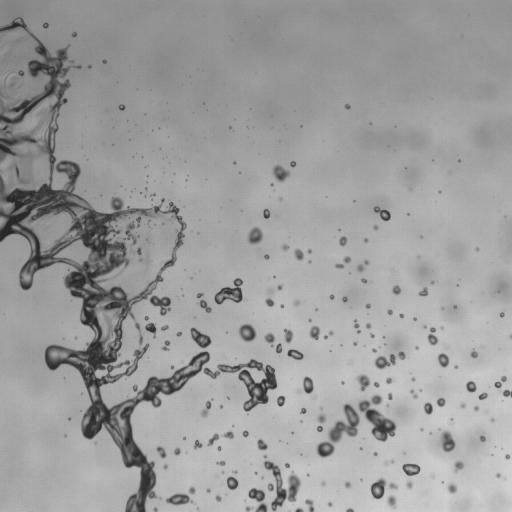droplet: (214, 278, 247, 305), (370, 477, 398, 499), (165, 486, 195, 505), (244, 487, 267, 511), (402, 463, 421, 489), (238, 323, 256, 342), (272, 164, 290, 182), (295, 376, 313, 394), (354, 374, 371, 391), (247, 226, 263, 244), (222, 476, 239, 490), (427, 327, 438, 345), (286, 349, 304, 360), (145, 321, 156, 338), (437, 352, 449, 367), (309, 325, 320, 341), (356, 259, 369, 272), (386, 495, 397, 509), (283, 328, 293, 343), (446, 482, 457, 494), (466, 380, 476, 393), (453, 460, 463, 473), (275, 395, 286, 406), (28, 21, 39, 32), (53, 132, 64, 143), (53, 149, 64, 160), (140, 198, 151, 209), (256, 218, 267, 229), (338, 245, 349, 256), (269, 246, 280, 257), (20, 248, 31, 259), (51, 261, 62, 272), (153, 286, 164, 297), (130, 302, 141, 313), (162, 312, 173, 323), (152, 315, 163, 326), (254, 328, 265, 339), (84, 329, 95, 340), (164, 329, 175, 340), (273, 331, 284, 342), (181, 332, 192, 343), (149, 338, 160, 349), (431, 343, 442, 354), (206, 359, 217, 370), (382, 365, 393, 376), (367, 369, 378, 380), (364, 385, 375, 396), (376, 385, 387, 396), (489, 387, 500, 398), (266, 388, 277, 399), (139, 399, 150, 410), (305, 411, 316, 422), (323, 419, 334, 430), (361, 419, 372, 430), (97, 427, 108, 438), (318, 431, 329, 442), (367, 435, 378, 446), (139, 443, 150, 454), (448, 449, 459, 460), (130, 465, 141, 476), (449, 473, 460, 484), (129, 481, 140, 492), (237, 483, 248, 494), (295, 488, 306, 499), (264, 490, 275, 501), (293, 496, 304, 507), (143, 498, 154, 509), (294, 248, 304, 260), (257, 438, 267, 450), (156, 446, 166, 458), (305, 499, 314, 511), (418, 286, 428, 296), (161, 340, 170, 351), (392, 285, 401, 295), (409, 389, 418, 399), (193, 439, 202, 449), (48, 48, 57, 57), (240, 229, 249, 238), (366, 229, 375, 238), (4, 233, 13, 242), (346, 261, 355, 270), (74, 296, 83, 305), (205, 296, 214, 305), (182, 330, 191, 339), (369, 338, 378, 347), (281, 342, 290, 351), (71, 368, 80, 377), (163, 369, 172, 378), (273, 371, 282, 380), (137, 380, 146, 389), (357, 411, 366, 420), (128, 413, 137, 422), (216, 426, 225, 435), (232, 428, 241, 437), (131, 432, 140, 441), (435, 437, 444, 446), (164, 446, 173, 455), (274, 458, 283, 467), (280, 470, 289, 479), (296, 471, 305, 480), (256, 481, 265, 490), (383, 487, 392, 496), (249, 498, 258, 507), (339, 236, 347, 246), (470, 348, 478, 358), (386, 376, 396, 384), (505, 308, 511, 319), (505, 379, 511, 390), (173, 505, 184, 511), (382, 505, 393, 511), (391, 505, 402, 511), (281, 243, 289, 251), (160, 324, 169, 331), (478, 392, 487, 399), (479, 432, 486, 441), (263, 208, 269, 218), (292, 299, 300, 306), (344, 481, 352, 488), (0, 73, 5, 84), (0, 216, 5, 227), (216, 460, 225, 466), (299, 407, 306, 414), (242, 430, 249, 437), (15, 26, 22, 33), (57, 42, 64, 49), (65, 49, 72, 56), (37, 55, 44, 62), (21, 64, 28, 71), (64, 72, 71, 79), (59, 103, 66, 110), (4, 153, 11, 160), (65, 154, 72, 161), (69, 155, 76, 162), (77, 161, 84, 168), (283, 163, 290, 170), (75, 175, 82, 182), (269, 175, 276, 182), (283, 176, 290, 183), (2, 177, 9, 184), (116, 191, 123, 198), (152, 198, 159, 205), (160, 203, 167, 210), (106, 206, 113, 213), (260, 228, 267, 235), (253, 241, 260, 248), (175, 247, 182, 254), (287, 248, 294, 255), (302, 252, 309, 259), (165, 265, 172, 272), (35, 268, 42, 275), (360, 270, 367, 277), (63, 287, 70, 294), (334, 294, 341, 301), (143, 297, 150, 304), (273, 299, 280, 306), (272, 302, 279, 309), (391, 311, 398, 318), (311, 319, 318, 326), (139, 320, 146, 327), (154, 322, 161, 329), (358, 323, 365, 330), (252, 324, 259, 331), (303, 328, 310, 335), (352, 333, 359, 340), (247, 339, 254, 346), (80, 343, 87, 350), (195, 345, 202, 352), (370, 352, 377, 359), (447, 359, 454, 366), (59, 362, 66, 369), (41, 363, 48, 370), (357, 368, 364, 375), (197, 370, 204, 377), (187, 376, 194, 383), (378, 378, 385, 385), (353, 381, 360, 388), (500, 382, 507, 389), (98, 384, 105, 391), (474, 388, 481, 395), (172, 390, 179, 397), (129, 391, 136, 398), (156, 391, 163, 398), (380, 393, 387, 400), (84, 399, 91, 406), (105, 401, 112, 408), (256, 402, 263, 409), (368, 402, 375, 409), (466, 402, 473, 409), (352, 404, 359, 411), (321, 408, 328, 415), (392, 417, 399, 424), (367, 422, 374, 429), (76, 430, 83, 437), (340, 431, 347, 438), (450, 433, 457, 440), (81, 436, 88, 443), (200, 437, 207, 444), (212, 439, 219, 446), (332, 441, 339, 448), (113, 446, 120, 453), (310, 446, 317, 453), (311, 449, 318, 456), (322, 455, 329, 462), (151, 465, 158, 472), (281, 482, 288, 489), (441, 483, 448, 490), (455, 484, 462, 491), (151, 485, 158, 492), (181, 487, 188, 494), (208, 491, 215, 498), (445, 491, 452, 498), (451, 491, 458, 498), (394, 497, 401, 504), (282, 498, 289, 505), (119, 503, 126, 510), (302, 504, 309, 511), (448, 417, 454, 425), (174, 447, 180, 455), (275, 506, 284, 511), (118, 104, 125, 110), (176, 331, 183, 337), (372, 381, 379, 387), (459, 402, 466, 408), (215, 494, 221, 501), (387, 392, 392, 400), (42, 22, 48, 28), (290, 161, 296, 167), (365, 302, 371, 308), (387, 309, 393, 315), (365, 323, 371, 329), (473, 405, 479, 411), (284, 462, 290, 468), (294, 507, 303, 511), (499, 311, 504, 318), (443, 343, 448, 350), (344, 104, 350, 109), (373, 224, 378, 230), (277, 284, 282, 290), (342, 296, 347, 302), (369, 332, 374, 338), (371, 348, 377, 353), (217, 445, 222, 451), (504, 454, 510, 459), (152, 506, 158, 511), (144, 314, 148, 321), (430, 472, 434, 479), (265, 507, 272, 511), (326, 507, 333, 511), (72, 32, 77, 37), (264, 254, 269, 259), (329, 294, 334, 299), (399, 313, 404, 318), (414, 345, 419, 350), (321, 481, 326, 486), (327, 501, 332, 506), (23, 19, 28, 24), (6, 20, 11, 25), (68, 28, 73, 33), (28, 36, 33, 41), (33, 41, 38, 46), (73, 60, 78, 65), (81, 63, 86, 68), (13, 71, 18, 76), (5, 79, 10, 84), (61, 93, 66, 98), (52, 151, 57, 156), (53, 160, 58, 165), (146, 176, 151, 181), (139, 186, 144, 191), (72, 189, 77, 194), (114, 192, 119, 197), (129, 203, 134, 208), (121, 205, 126, 210), (374, 211, 379, 216), (389, 211, 394, 216), (181, 216, 186, 221), (380, 219, 385, 224), (385, 219, 390, 224), (368, 223, 373, 228), (368, 226, 373, 231), (181, 229, 186, 234), (337, 232, 342, 237), (345, 234, 350, 239), (180, 236, 185, 241), (334, 238, 339, 243), (345, 239, 350, 244), (285, 240, 290, 245), (365, 241, 370, 246), (277, 242, 282, 247), (178, 244, 183, 249), (277, 247, 282, 252), (302, 250, 307, 255), (349, 254, 354, 259), (365, 255, 370, 260), (339, 259, 344, 264), (358, 259, 363, 264), (173, 260, 178, 265), (343, 262, 348, 267), (48, 264, 53, 269), (363, 264, 368, 269), (70, 266, 75, 271), (336, 267, 341, 272), (160, 272, 165, 277), (156, 280, 161, 285), (391, 281, 396, 286), (229, 283, 234, 288), (398, 283, 403, 288), (16, 284, 21, 289), (239, 284, 244, 289), (272, 284, 277, 289), (28, 286, 33, 291), (417, 286, 422, 291), (387, 287, 392, 292), (25, 288, 30, 293), (195, 288, 200, 293), (426, 288, 431, 293), (399, 289, 404, 294), (241, 291, 246, 296), (390, 292, 395, 297), (157, 293, 162, 298), (167, 293, 172, 298), (263, 294, 268, 299), (420, 295, 425, 300), (271, 296, 276, 301), (223, 298, 228, 303), (168, 302, 173, 307), (262, 302, 267, 307), (360, 303, 365, 308), (155, 305, 160, 310), (366, 307, 371, 312), (165, 310, 170, 315), (207, 311, 212, 316), (146, 318, 151, 323), (242, 319, 247, 324), (309, 321, 314, 326), (370, 322, 375, 327), (426, 323, 431, 328), (84, 324, 89, 329), (286, 325, 291, 330), (328, 325, 333, 330), (434, 325, 439, 330), (368, 327, 373, 332), (200, 329, 205, 334), (425, 329, 430, 334), (146, 330, 151, 335), (432, 331, 437, 336), (317, 333, 322, 338), (310, 337, 315, 342), (383, 337, 388, 342), (423, 337, 428, 342), (379, 338, 384, 343), (436, 339, 441, 344), (47, 340, 52, 345), (191, 340, 196, 345), (272, 340, 277, 345), (58, 341, 63, 346), (265, 341, 270, 346), (140, 342, 145, 347), (297, 347, 302, 352), (467, 347, 472, 352), (403, 350, 408, 355), (444, 350, 449, 355), (142, 352, 147, 357), (208, 352, 213, 357), (476, 353, 481, 358), (287, 355, 292, 360), (394, 355, 399, 360), (40, 356, 45, 361), (186, 356, 191, 361), (256, 357, 261, 362), (137, 358, 142, 363), (244, 358, 249, 363), (297, 358, 302, 363), (183, 360, 188, 365), (233, 360, 238, 365), (270, 362, 275, 367), (435, 362, 440, 367), (201, 363, 206, 368), (173, 365, 178, 370), (383, 365, 388, 370), (441, 366, 446, 371), (234, 370, 239, 375), (219, 371, 224, 376), (499, 371, 504, 376), (156, 374, 161, 379), (205, 374, 210, 379), (215, 374, 220, 379), (309, 374, 314, 379), (464, 377, 469, 382), (113, 380, 118, 385), (238, 380, 243, 385), (368, 381, 373, 386), (312, 383, 317, 388), (461, 384, 466, 389), (181, 385, 186, 390), (299, 386, 304, 391), (492, 386, 497, 391), (311, 388, 316, 393), (413, 388, 418, 393), (300, 389, 305, 394), (465, 390, 470, 395), (281, 391, 286, 396), (308, 391, 313, 396), (305, 392, 310, 397), (407, 392, 412, 397), (391, 393, 396, 398), (498, 393, 503, 398), (245, 394, 250, 399), (442, 394, 447, 399), (120, 396, 125, 401), (422, 398, 427, 403), (480, 398, 485, 403), (283, 399, 288, 404), (210, 401, 215, 406), (238, 402, 243, 407), (443, 402, 448, 407), (201, 403, 206, 408), (455, 403, 460, 408), (158, 404, 163, 409), (251, 406, 256, 411), (208, 407, 213, 412), (461, 407, 466, 412), (420, 409, 425, 414), (472, 410, 477, 415), (78, 412, 83, 417), (488, 412, 493, 417), (426, 413, 431, 418), (200, 416, 205, 421), (314, 421, 319, 426), (226, 426, 231, 431), (423, 427, 428, 432), (222, 428, 227, 433), (393, 428, 398, 433), (207, 433, 212, 438), (386, 434, 391, 439), (475, 436, 480, 441), (108, 437, 113, 442), (262, 438, 267, 443), (377, 439, 382, 444), (481, 440, 486, 445), (159, 442, 164, 447), (253, 442, 258, 447), (195, 446, 200, 451), (179, 448, 184, 453), (491, 448, 496, 453), (260, 449, 265, 454), (449, 449, 454, 454), (385, 455, 390, 460), (266, 456, 271, 461), (146, 457, 151, 462), (260, 457, 265, 462), (409, 459, 414, 464), (272, 460, 277, 465), (217, 464, 222, 469), (450, 464, 455, 469), (462, 464, 467, 469), (267, 468, 272, 473), (457, 468, 462, 473), (494, 468, 499, 473), (400, 470, 405, 475), (232, 473, 237, 478), (410, 474, 415, 479), (344, 476, 349, 481), (372, 477, 377, 482), (496, 477, 501, 482), (349, 479, 354, 484), (237, 480, 242, 485), (271, 480, 276, 485), (222, 482, 227, 487), (340, 483, 345, 488), (411, 483, 416, 488), (246, 485, 251, 490), (255, 485, 260, 490), (224, 486, 229, 491), (234, 486, 239, 491), (194, 488, 199, 493), (406, 488, 411, 493), (366, 489, 371, 494), (166, 492, 171, 497), (367, 492, 372, 497), (188, 493, 193, 498), (219, 493, 224, 498), (306, 494, 311, 499), (123, 495, 128, 500), (211, 497, 216, 502), (372, 497, 377, 502), (217, 500, 222, 505), (331, 500, 336, 505), (167, 502, 172, 507), (178, 503, 183, 508), (312, 503, 317, 508), (345, 503, 350, 508), (307, 248, 311, 254), (232, 470, 238, 474), (0, 20, 3, 27), (0, 53, 3, 60), (0, 120, 3, 127), (102, 59, 107, 63), (475, 246, 479, 251), (280, 304, 284, 309), (422, 324, 426, 329), (353, 341, 357, 346), (454, 364, 458, 369), (410, 377, 415, 381), (219, 404, 223, 409), (490, 417, 494, 422), (163, 464, 167, 469), (206, 488, 210, 493), (87, 64, 91, 68), (364, 238, 368, 242), (430, 280, 434, 284), (413, 317, 417, 321), (341, 381, 345, 385), (385, 403, 389, 407), (67, 417, 71, 421), (373, 451, 377, 455), (311, 396, 316, 399), (508, 386, 511, 391), (241, 508, 246, 511), (249, 508, 254, 511), (312, 508, 317, 511), (228, 125, 231, 129), (457, 159, 461, 162), (270, 182, 273, 186), (189, 276, 193, 279), (496, 290, 500, 293), (453, 305, 457, 308), (441, 306, 444, 310), (314, 308, 318, 311), (308, 318, 311, 322), (440, 326, 444, 329), (418, 388, 422, 391), (226, 396, 230, 399), (299, 420, 303, 423), (420, 427, 423, 431), (64, 433, 67, 437), (182, 436, 186, 439), (94, 441, 97, 445), (221, 470, 224, 474), (254, 471, 257, 475), (360, 478, 363, 482), (244, 499, 247, 503), (196, 507, 199, 511), (145, 187, 147, 192), (369, 122, 372, 125), (233, 161, 236, 164), (238, 171, 241, 174), (438, 190, 441, 193), (279, 197, 282, 200), (338, 228, 341, 231), (420, 235, 423, 238), (308, 260, 311, 263), (181, 294, 184, 297), (225, 331, 228, 334), (74, 336, 77, 339), (181, 360, 184, 363), (291, 431, 294, 434), (359, 447, 362, 450), (306, 473, 309, 476), (46, 20, 49, 23), (40, 21, 43, 24), (47, 24, 50, 27), (43, 27, 46, 30), (72, 28, 75, 31), (75, 34, 78, 37), (101, 56, 104, 59), (99, 60, 102, 63), (3, 61, 6, 64), (88, 61, 91, 64), (102, 63, 105, 66), (75, 67, 78, 70), (88, 67, 91, 70), (15, 69, 18, 72), (0, 80, 3, 83), (68, 80, 71, 83), (66, 98, 69, 101), (344, 100, 347, 103), (348, 102, 351, 105), (343, 107, 346, 110), (123, 108, 126, 111), (347, 108, 350, 111), (119, 109, 122, 112), (56, 120, 59, 123), (366, 123, 369, 126), (57, 124, 60, 127), (296, 124, 299, 127), (302, 124, 305, 127), (225, 125, 228, 128), (231, 125, 234, 128), (299, 127, 302, 130), (228, 128, 231, 131), (55, 130, 58, 133), (455, 156, 458, 159), (234, 158, 237, 161), (289, 158, 292, 161), (293, 158, 296, 161), (428, 158, 431, 161), (460, 158, 463, 161), (229, 160, 232, 163), (456, 161, 459, 164), (295, 162, 298, 165), (231, 163, 234, 166), (293, 165, 296, 168), (237, 173, 240, 176), (148, 174, 151, 177), (184, 175, 187, 178), (144, 176, 147, 179), (181, 178, 184, 181), (186, 180, 189, 183), (144, 183, 147, 186), (271, 185, 274, 188), (130, 187, 133, 190), (438, 187, 441, 190), (150, 190, 153, 193), (128, 191, 131, 194), (136, 191, 139, 194), (141, 192, 144, 195), (436, 192, 439, 195), (146, 193, 149, 196), (151, 195, 154, 198), (352, 196, 355, 199), (349, 199, 352, 202), (175, 204, 178, 207), (264, 205, 267, 208), (267, 207, 270, 210), (386, 208, 389, 211), (406, 209, 409, 212), (260, 213, 263, 216), (269, 213, 272, 216), (406, 215, 409, 218), (265, 217, 268, 220), (336, 225, 339, 228), (367, 237, 370, 240), (361, 240, 364, 243), (477, 244, 480, 247), (478, 248, 481, 251), (311, 249, 314, 252), (473, 249, 476, 252), (263, 251, 266, 254), (267, 252, 270, 255), (261, 256, 264, 259), (268, 256, 271, 259), (310, 261, 313, 264), (307, 263, 310, 266), (273, 272, 276, 275), (236, 275, 239, 278), (269, 275, 272, 278), (232, 276, 235, 279), (364, 276, 367, 279), (240, 277, 243, 280), (366, 280, 369, 283), (456, 280, 459, 283), (433, 281, 436, 284), (362, 282, 365, 285), (281, 285, 284, 288), (455, 286, 458, 289), (217, 288, 220, 291), (180, 290, 183, 293), (327, 292, 330, 295), (332, 292, 335, 295), (343, 293, 346, 296), (183, 294, 186, 297), (193, 294, 196, 297), (179, 295, 182, 298), (327, 297, 330, 300), (332, 297, 335, 300), (299, 300, 302, 303), (340, 300, 343, 303), (233, 301, 236, 304), (237, 301, 240, 304), (344, 301, 347, 304), (453, 301, 456, 304), (283, 304, 286, 307), (314, 304, 317, 307), (450, 304, 453, 307), (456, 304, 459, 307), (388, 306, 391, 309), (311, 308, 314, 311), (317, 308, 320, 311), (453, 308, 456, 311), (498, 309, 501, 312), (399, 310, 402, 313), (503, 311, 506, 314), (144, 312, 147, 315), (386, 313, 389, 316), (496, 313, 499, 316), (161, 314, 164, 317), (396, 314, 399, 317), (403, 314, 406, 317), (414, 314, 417, 317), (502, 315, 505, 318), (351, 316, 354, 319), (305, 319, 308, 322), (411, 319, 414, 322), (351, 321, 354, 324), (167, 323, 170, 326), (432, 324, 435, 327), (164, 328, 167, 331), (177, 328, 180, 331), (332, 329, 335, 332), (222, 331, 225, 334), (371, 331, 374, 334), (358, 332, 361, 335), (382, 332, 385, 335), (367, 333, 370, 336), (178, 335, 181, 338), (327, 335, 330, 338), (373, 335, 376, 338), (506, 335, 509, 338), (209, 337, 212, 340), (370, 337, 373, 340), (353, 338, 356, 341), (339, 340, 342, 343), (356, 342, 359, 345), (350, 343, 353, 346), (416, 343, 419, 346), (166, 345, 169, 348), (273, 345, 276, 348), (341, 345, 344, 348), (329, 346, 332, 349), (374, 346, 377, 349), (400, 348, 403, 351), (474, 348, 477, 351), (145, 349, 148, 352), (161, 349, 164, 352), (415, 349, 418, 352), (328, 351, 331, 354), (276, 352, 279, 355), (302, 354, 305, 357), (470, 356, 473, 359), (220, 361, 223, 364), (456, 362, 459, 365), (457, 365, 460, 368), (454, 368, 457, 371), (131, 372, 134, 375), (409, 374, 412, 377), (414, 376, 417, 379), (341, 377, 344, 380), (338, 382, 341, 385), (388, 382, 391, 385), (491, 382, 494, 385), (342, 383, 345, 386), (419, 385, 422, 388), (422, 388, 425, 391), (226, 393, 229, 396), (229, 395, 232, 398), (224, 397, 227, 400), (387, 399, 390, 402), (222, 404, 225, 407), (304, 406, 307, 409), (241, 408, 244, 411), (298, 408, 301, 411), (303, 412, 306, 415), (448, 414, 451, 417), (64, 416, 67, 419), (452, 418, 455, 421), (65, 419, 68, 422), (297, 421, 300, 424), (490, 421, 493, 424), (419, 424, 422, 427), (246, 428, 249, 431), (289, 428, 292, 431), (314, 429, 317, 432), (417, 429, 420, 432), (293, 431, 296, 434), (288, 432, 291, 435), (60, 433, 63, 436), (483, 433, 486, 436), (66, 434, 69, 437), (428, 434, 431, 437), (241, 435, 244, 438), (246, 435, 249, 438), (179, 436, 182, 439), (185, 436, 188, 439), (278, 436, 281, 439), (182, 439, 185, 442), (191, 441, 194, 444), (279, 441, 282, 444), (360, 444, 363, 447), (220, 445, 223, 448), (356, 447, 359, 450), (220, 448, 223, 451), (488, 450, 491, 453), (376, 451, 379, 454), (302, 452, 305, 455), (296, 453, 299, 456), (502, 453, 505, 456), (175, 454, 178, 457), (299, 455, 302, 458), (373, 455, 376, 458), (490, 455, 493, 458), (217, 458, 220, 461), (224, 460, 227, 463), (287, 460, 290, 463), (212, 461, 215, 464), (289, 463, 292, 466), (167, 464, 170, 467), (399, 465, 402, 468), (232, 467, 235, 470), (418, 470, 421, 473), (308, 471, 311, 474), (251, 472, 254, 475), (359, 474, 362, 477), (356, 477, 359, 480), (440, 477, 443, 480), (322, 485, 325, 488), (209, 487, 212, 490), (203, 488, 206, 491), (245, 491, 248, 494), (326, 499, 329, 502), (329, 499, 332, 502), (325, 504, 328, 507), (198, 506, 201, 509), (144, 194, 146, 198), (406, 213, 410, 215), (224, 493, 228, 495), (404, 167, 407, 169), (146, 174, 148, 177), (151, 198, 153, 201), (353, 200, 356, 202), (273, 275, 275, 278), (456, 284, 459, 286), (382, 336, 385, 338), (383, 343, 386, 345), (340, 344, 343, 346), (363, 344, 365, 347), (232, 424, 234, 427), (429, 432, 432, 434), (362, 437, 365, 439), (403, 452, 406, 454), (261, 476, 263, 479), (441, 481, 444, 483), (509, 455, 511, 458), (156, 509, 159, 511), (194, 509, 197, 511), (144, 113, 146, 115), (300, 125, 302, 127), (158, 127, 160, 129), (86, 158, 88, 160), (173, 173, 175, 175), (185, 179, 187, 181), (120, 185, 122, 187), (140, 192, 142, 194), (100, 194, 102, 196), (241, 210, 243, 212), (197, 232, 199, 234), (348, 272, 350, 274), (366, 313, 368, 315), (63, 377, 65, 379), (300, 453, 302, 455), (141, 156, 143, 157), (432, 159, 433, 161), (146, 181, 147, 183), (194, 316, 195, 318), (329, 350, 331, 351), (235, 357, 236, 359), (494, 446, 496, 447), (112, 144, 113, 145), (81, 393, 82, 394)
ligament: (316, 393, 397, 456), (374, 351, 405, 369), (207, 430, 234, 446), (438, 428, 455, 452), (264, 332, 282, 353), (423, 397, 445, 414), (195, 292, 212, 313), (316, 406, 327, 432), (373, 206, 390, 221), (200, 398, 213, 417), (11, 37, 27, 50), (334, 256, 351, 268), (265, 287, 275, 307), (0, 52, 10, 68), (353, 318, 361, 333), (323, 330, 333, 339), (383, 458, 394, 466), (361, 278, 372, 283), (345, 507, 354, 511), (149, 192, 155, 196), (486, 453, 493, 455), (509, 333, 511, 339), (144, 165, 148, 167), (278, 440, 282, 442), (180, 288, 183, 290), (287, 510, 291, 511), (502, 399, 503, 401)
